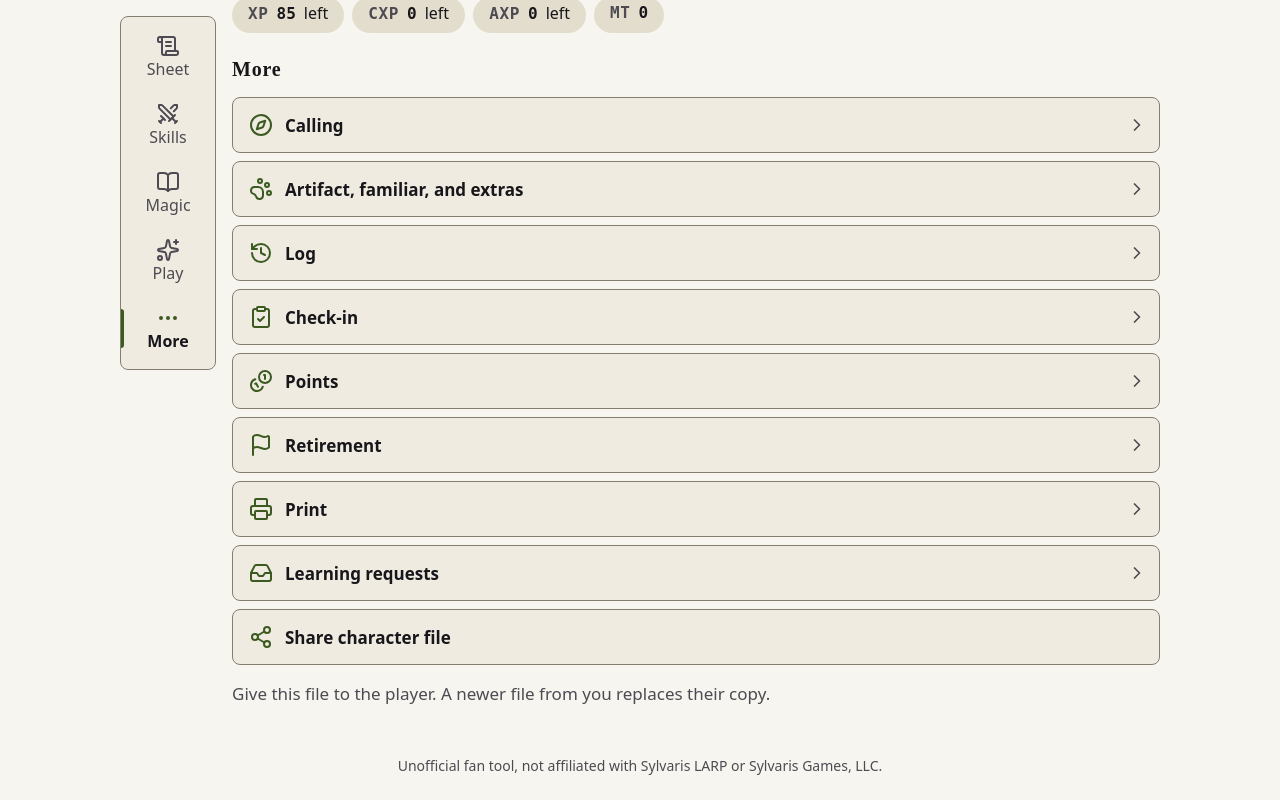
Test: More: share and requests › staff share the character file, with the note for the player
The width and height of the screenshot is (1280, 800).
(page scrolled)
Check: the text "Give this file to the player. A newer file from you replaces their copy." is shown, box left=232, top=682, right=770, bottom=706
Click the button "Share character file": (368, 637) left=232, top=610, right=1160, bottom=666
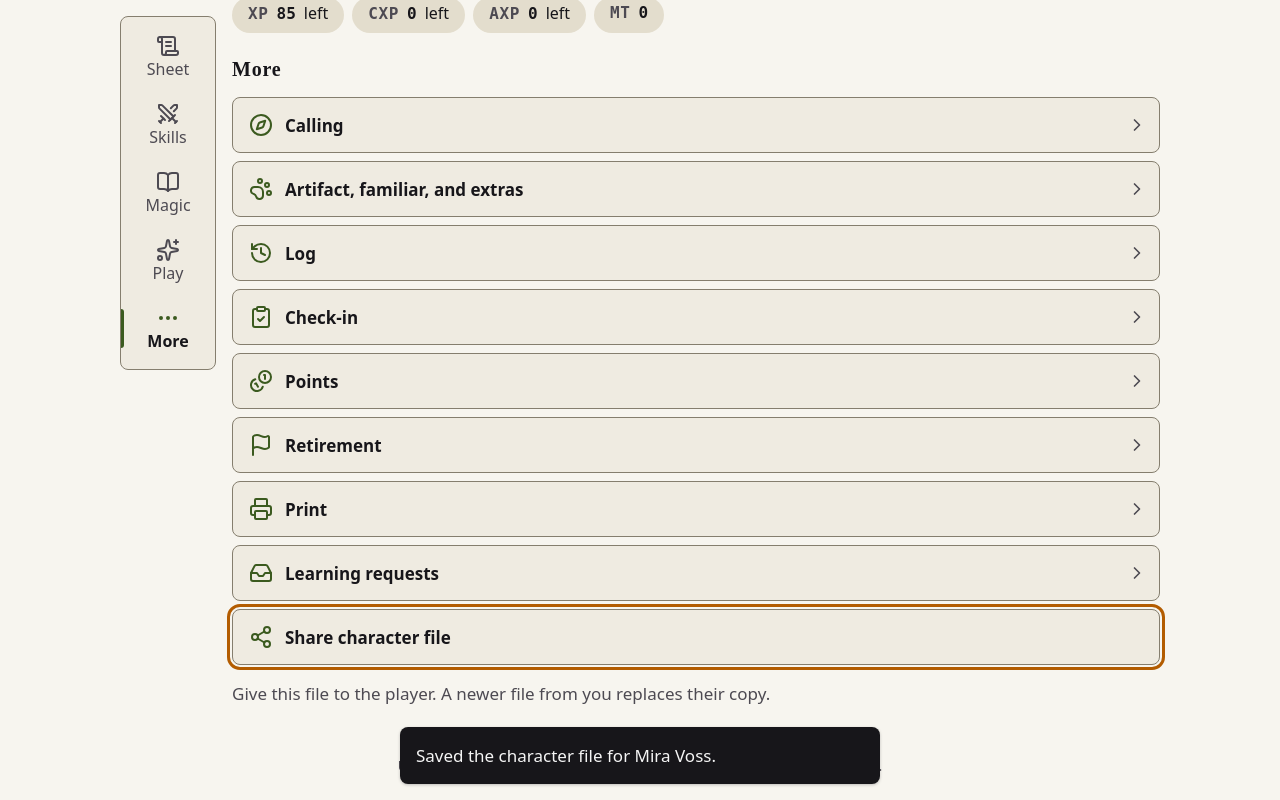
Check: the text "Saved the character file for Mira Voss." is shown, box left=416, top=744, right=716, bottom=766
